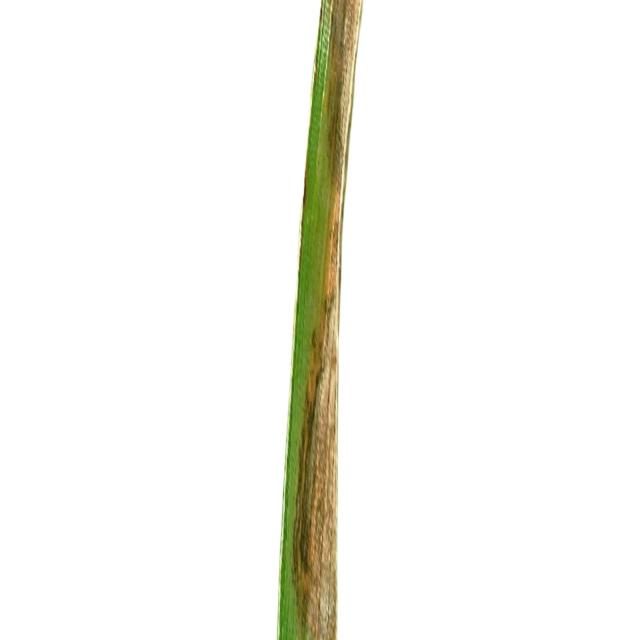Leaf scald: (180, 1, 489, 640)
